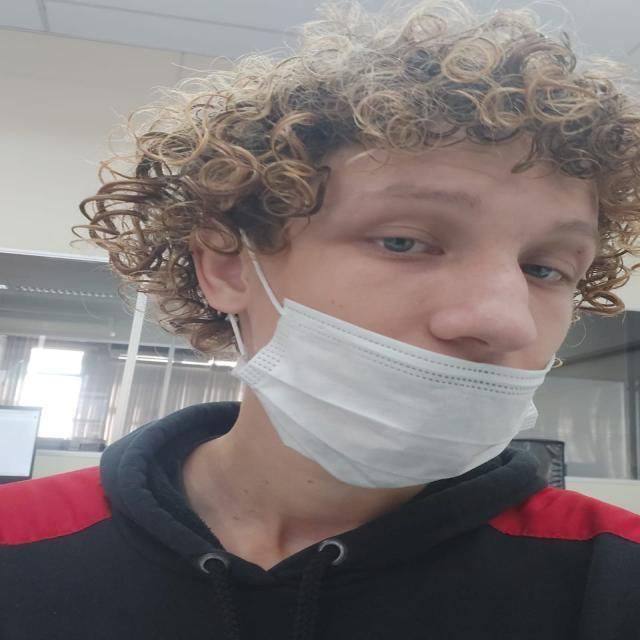hairnet: (237, 266, 582, 473)
